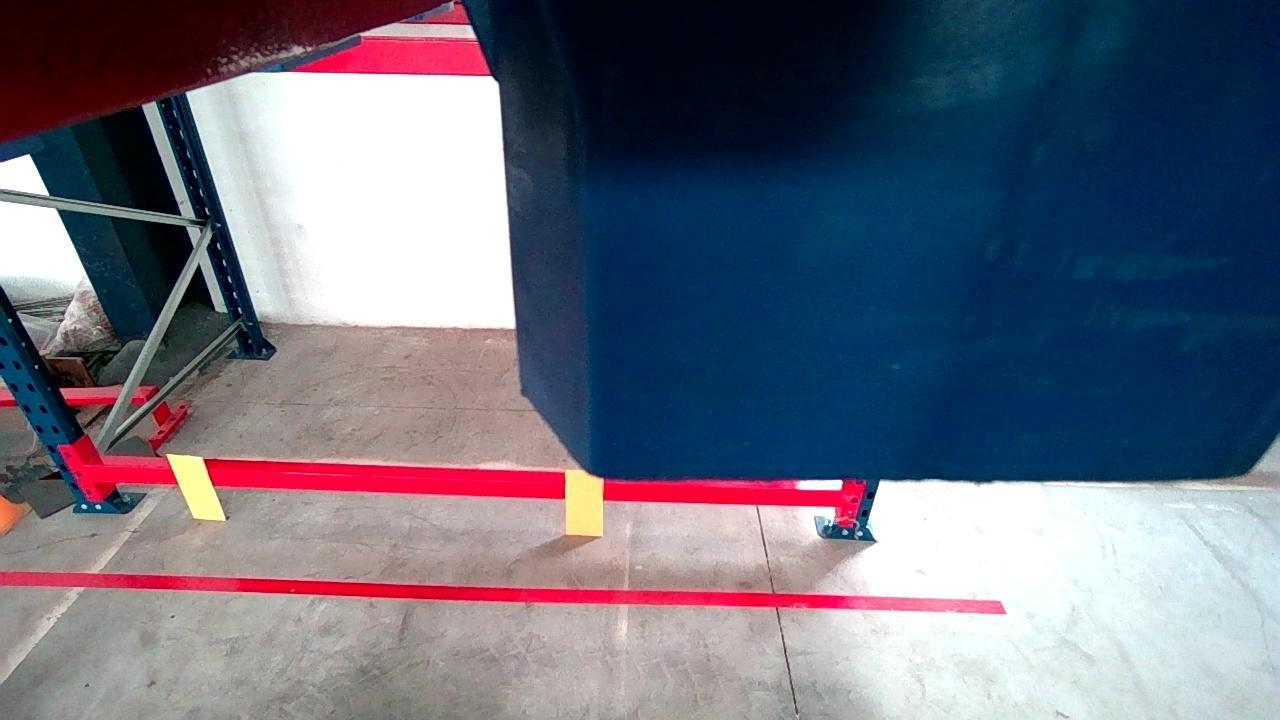h_rack: (85, 464, 842, 507)
orange_strip: (166, 456, 226, 518), (568, 472, 604, 533)
red_line: (2, 570, 1007, 612)
